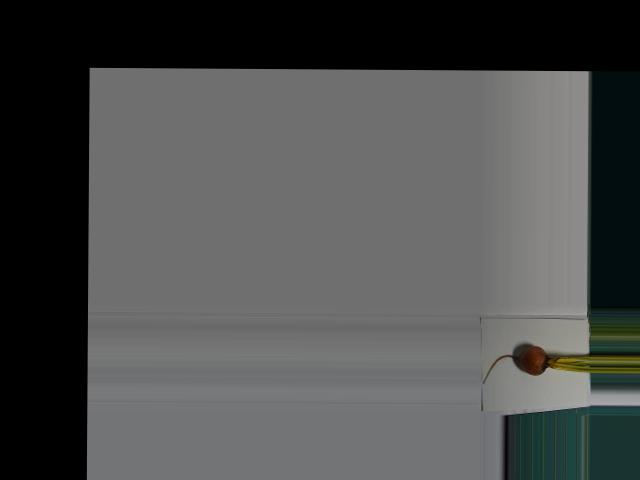beet: (483, 345, 590, 383)
